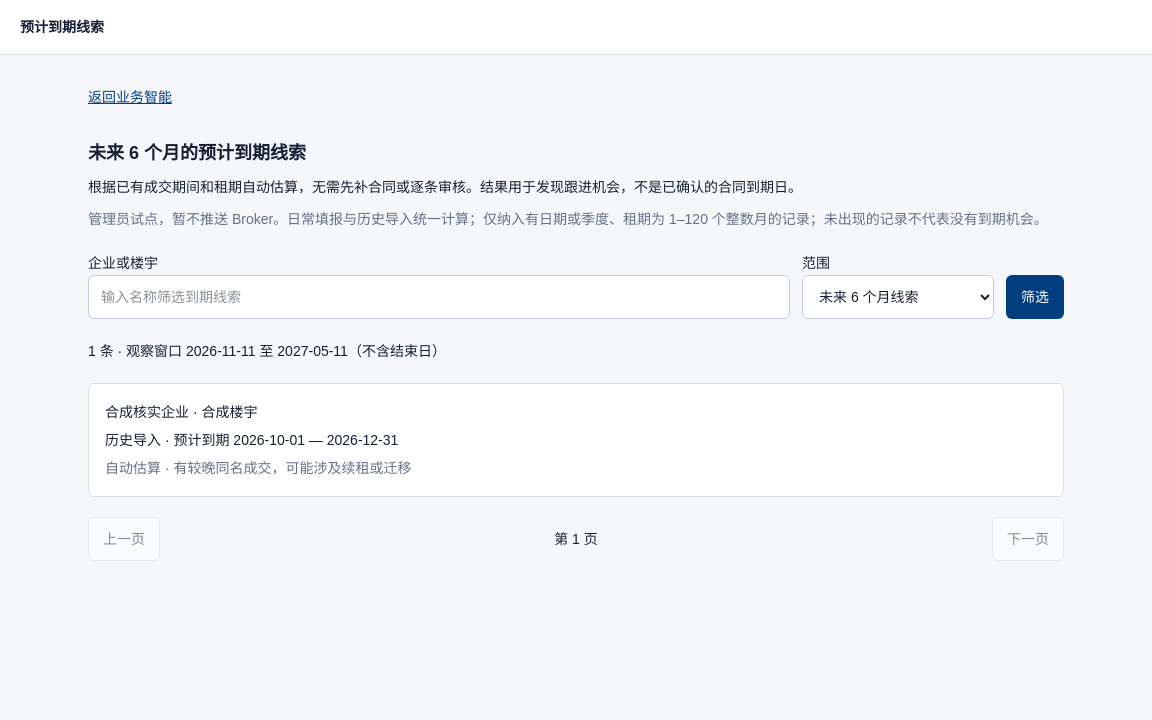
Test: F6 administrator review workspace › keeps evidence on conflict and never silently overwrites a newer draft
Click the button "合成核实企业" at {"x": 147, "y": 412}, box [89,384,1063,496]
(page scrolled)
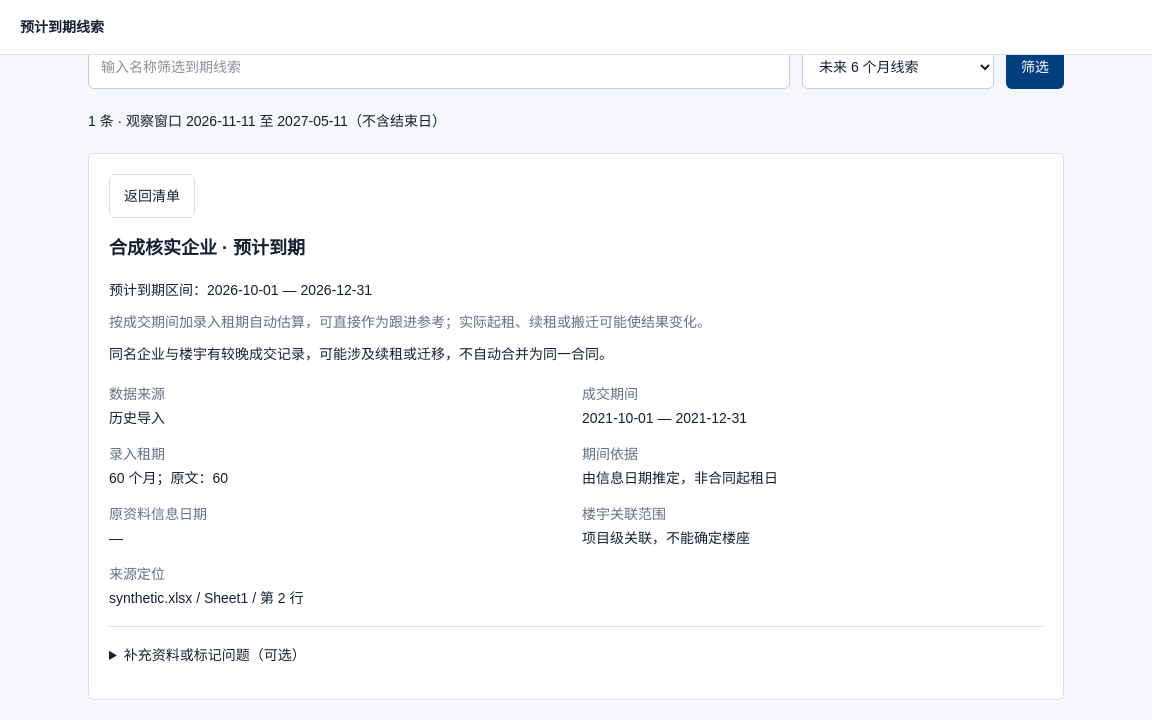
Click the heading "补充资料或标记问题（可选）" at {"x": 215, "y": 655}, box [124,647,306,663]
(page scrolled)
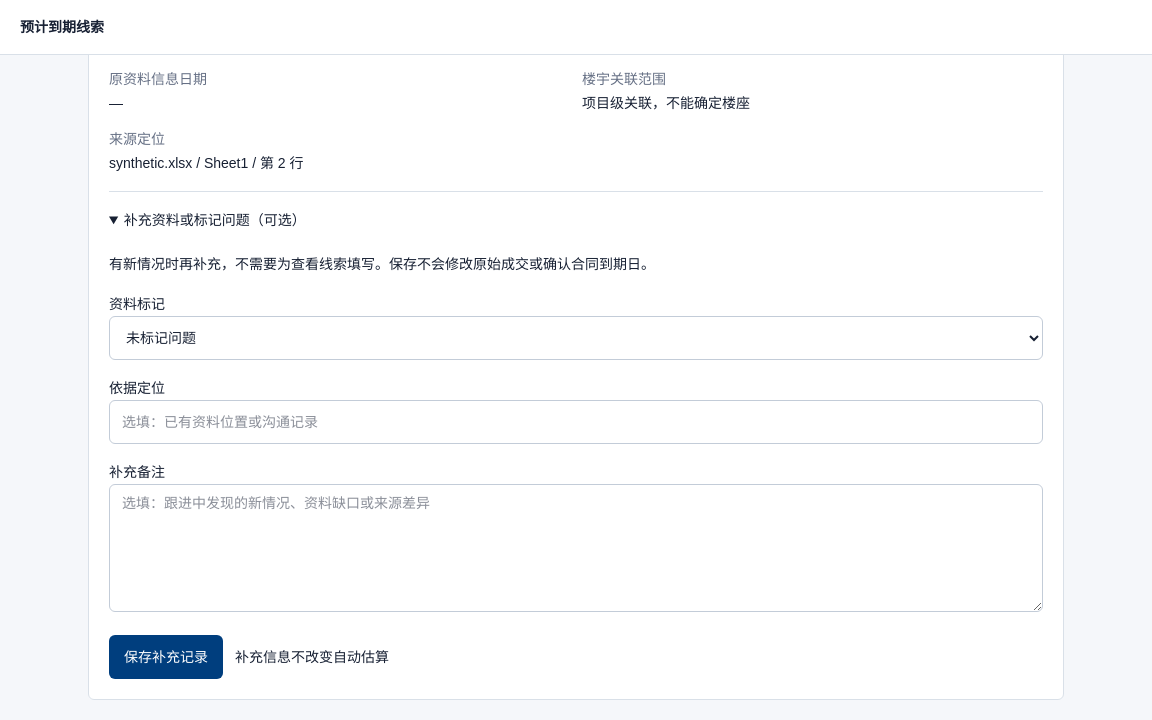
Type "我的核实证据" into the text box labelled "补充备注" at {"x": 576, "y": 548}, box [109,484,1043,612]
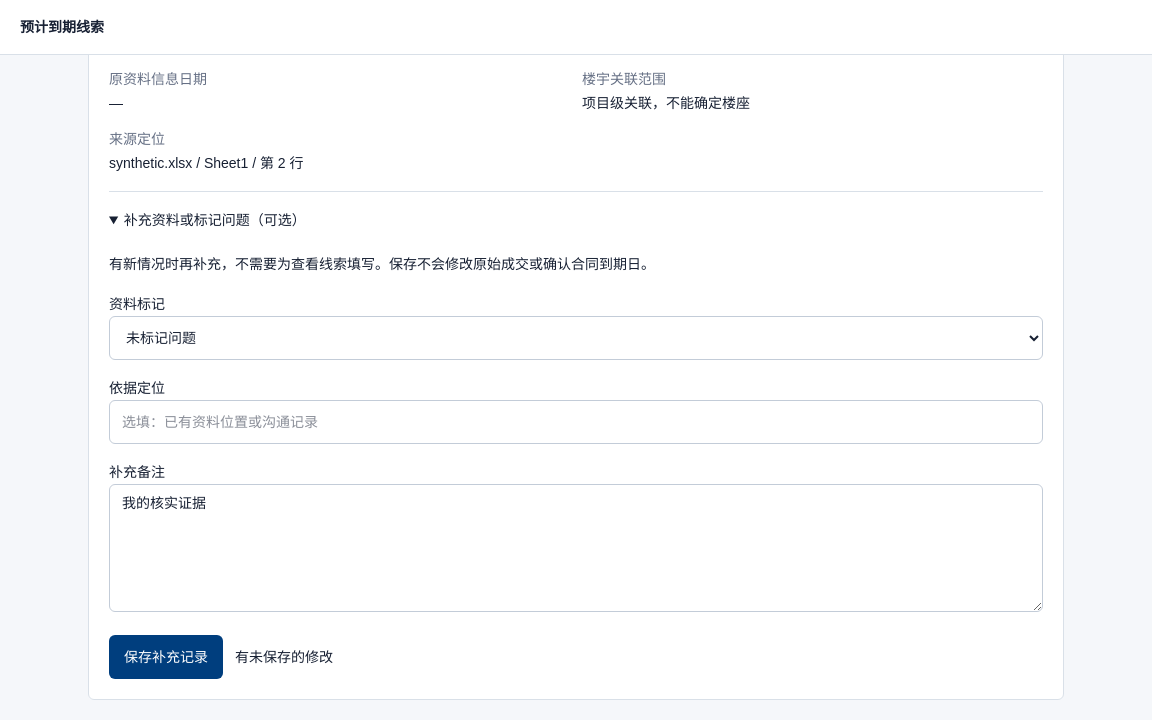
Click the button "保存补充记录" at {"x": 166, "y": 657}, box [109,635,223,679]
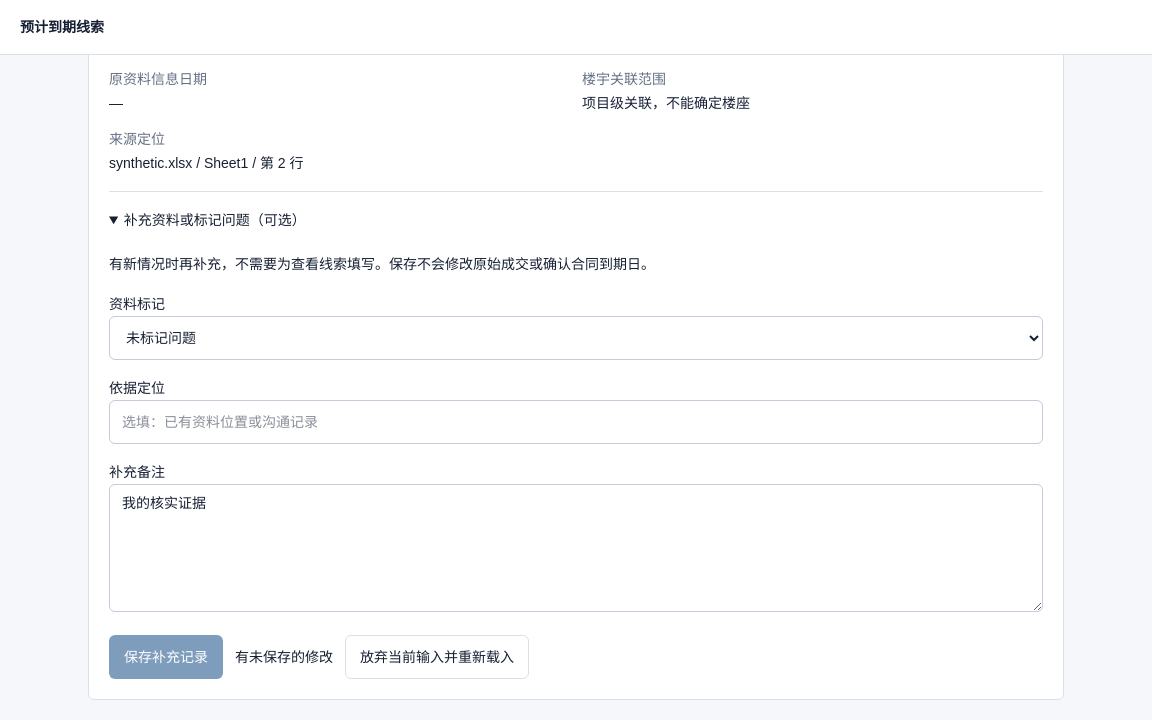
Result: the button "保存补充记录" is disabled at [109,635,223,679]
